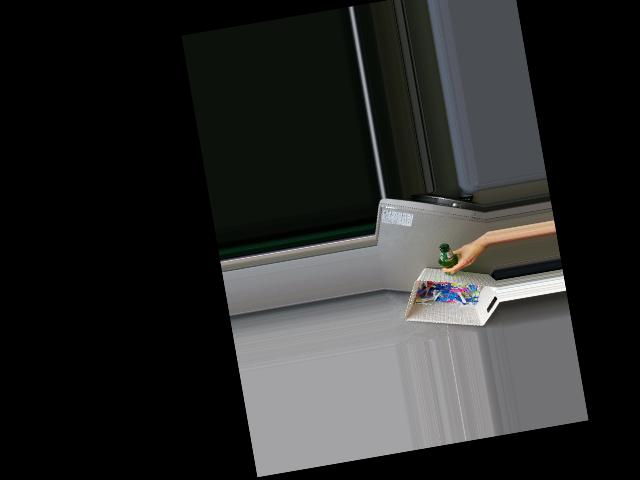beer: (435, 241, 460, 276)
